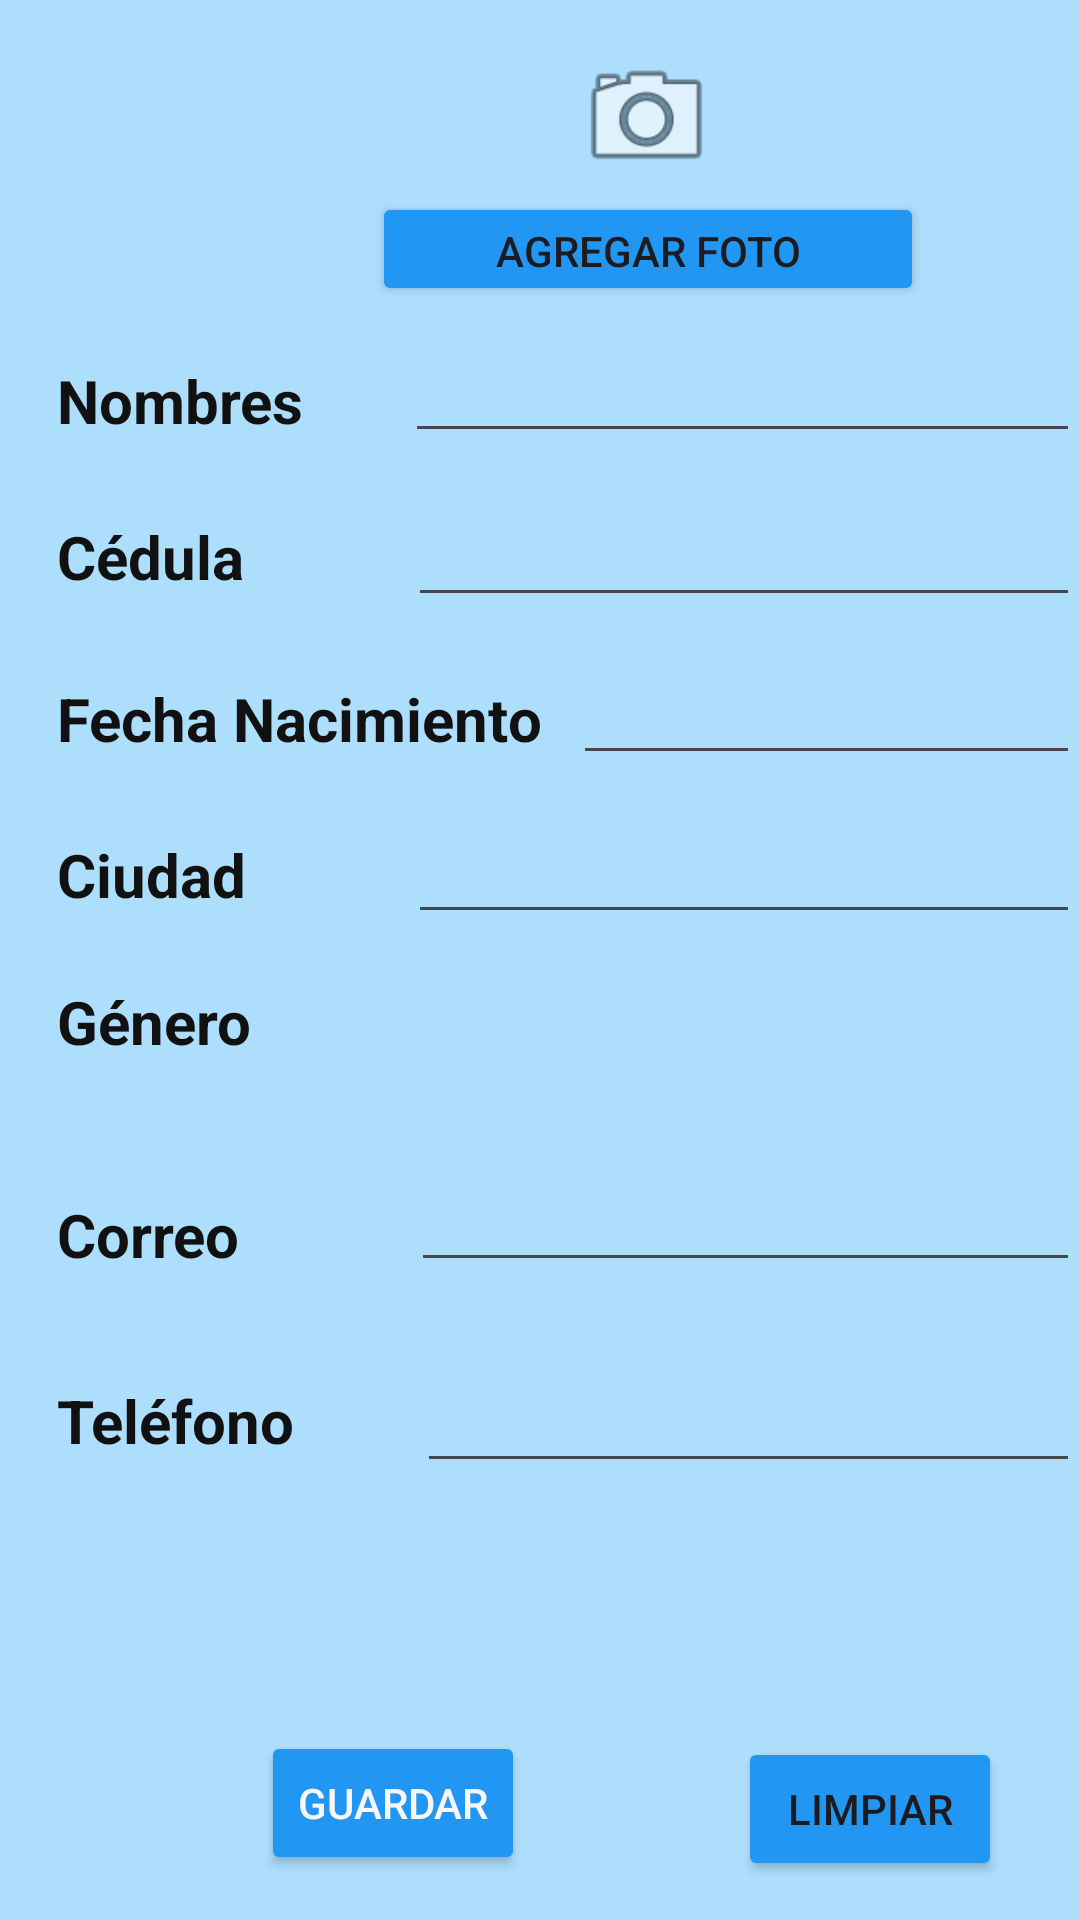

Icon click points for this 1080 x 1920 phone screenshot, format (x,y):
camera: (646,114)
